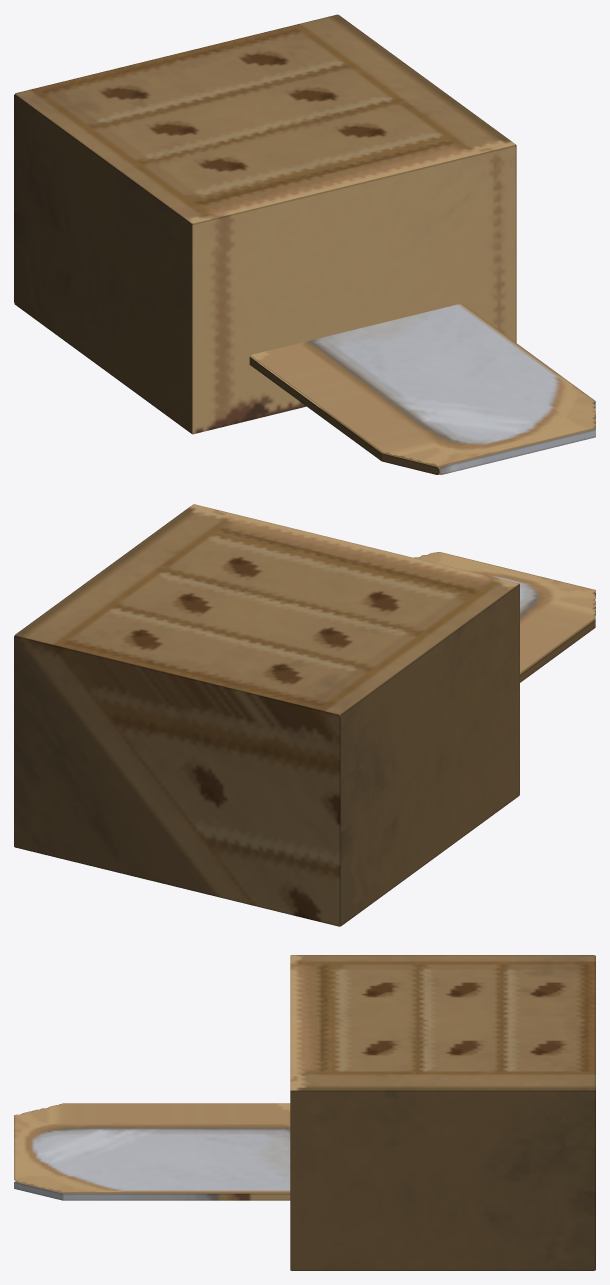
Rendered from pz_house_drawers_mirror.obj.
3 views of the same model, one above another, from view 1: azimuth 30°, elevation 25°; view 2: azimuth 150°, elevation 25°; view 3: azimuth 270°, elevation 25° (orthographic). The views are drawn at different scales.
Parts seen in each view (by area): view 1: pz_house_drawers_mirror_|_1_corpo_gavetas, pz_house_drawers_mirror_|_2_espelho; view 2: pz_house_drawers_mirror_|_1_corpo_gavetas, pz_house_drawers_mirror_|_2_espelho; view 3: pz_house_drawers_mirror_|_1_corpo_gavetas, pz_house_drawers_mirror_|_2_espelho.
Part boxes in pixels (left/top/right/bottom): pz_house_drawers_mirror_|_1_corpo_gavetas: left=14, top=14, right=516, bottom=434; pz_house_drawers_mirror_|_2_espelho: left=249, top=303, right=595, bottom=474; pz_house_drawers_mirror_|_1_corpo_gavetas: left=14, top=504, right=519, bottom=926; pz_house_drawers_mirror_|_2_espelho: left=414, top=552, right=595, bottom=682; pz_house_drawers_mirror_|_1_corpo_gavetas: left=290, top=955, right=595, bottom=1270; pz_house_drawers_mirror_|_2_espelho: left=14, top=1103, right=290, bottom=1200.
Size of the model in its own units: 0.9098 by 0.5643 by 1.65.
1 material, 1 textured.
